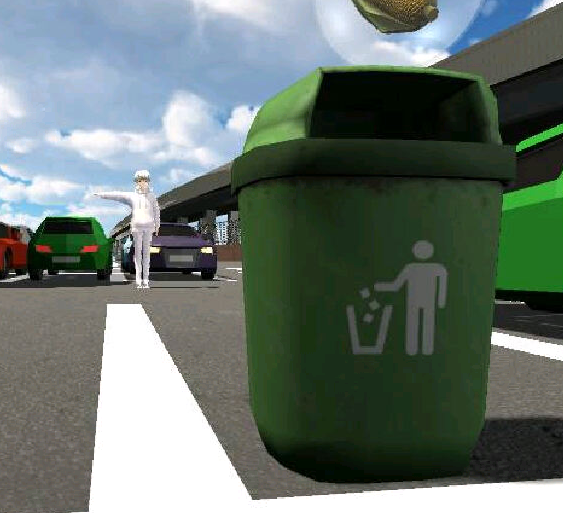singleP_left: (95, 166, 163, 286)
